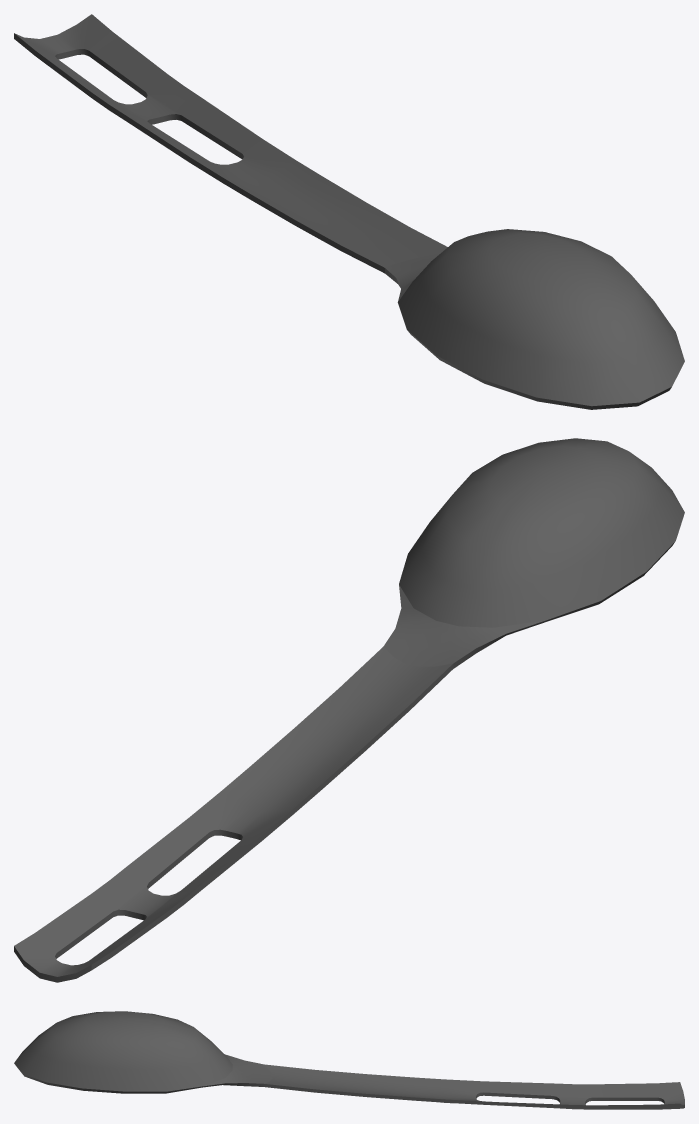
Rendered from nt_2020_art_spoon_01_LOD0.obj.
3 renders of one model, top to bottom at view 1: azimuth 30°, elevation 25°; view 2: azimuth 150°, elevation 25°; view 3: azimuth 270°, elevation 25°, orthographic. The views are drawn at different scales.
Visible parts, largest first — view 1: nt_2020_metal_chrome; view 2: nt_2020_metal_chrome; view 3: nt_2020_metal_chrome.
Boxes of the visible parts, left/top/right/bottom form: nt_2020_metal_chrome: left=14, top=14, right=684, bottom=409; nt_2020_metal_chrome: left=14, top=438, right=684, bottom=982; nt_2020_metal_chrome: left=14, top=1011, right=684, bottom=1109.
Bounding box in the file's own units: 4.65 × 3.25 × 22.72.
